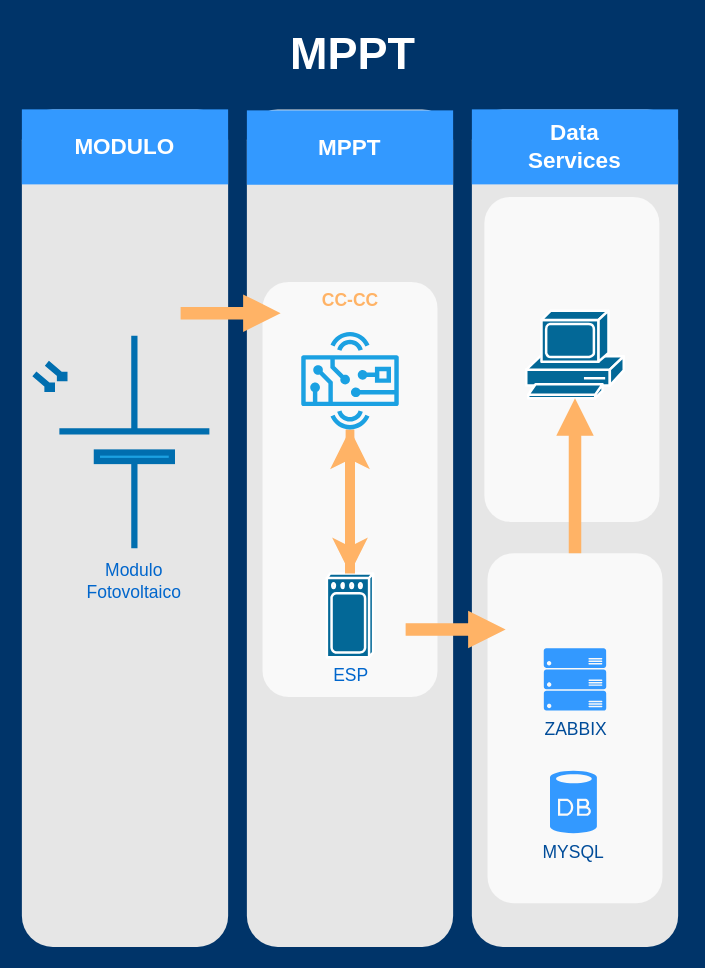
This 705x968 diagram has some shape labels left out. The shapes that lost their labels are listed below. From the top down, each one's box as (x1, y1, x2, y2) in pixels, then its label:
(484, 196, 659, 521): Zabbix Web
(300, 331, 399, 429): BOOST
(487, 552, 662, 902): Storage Management
